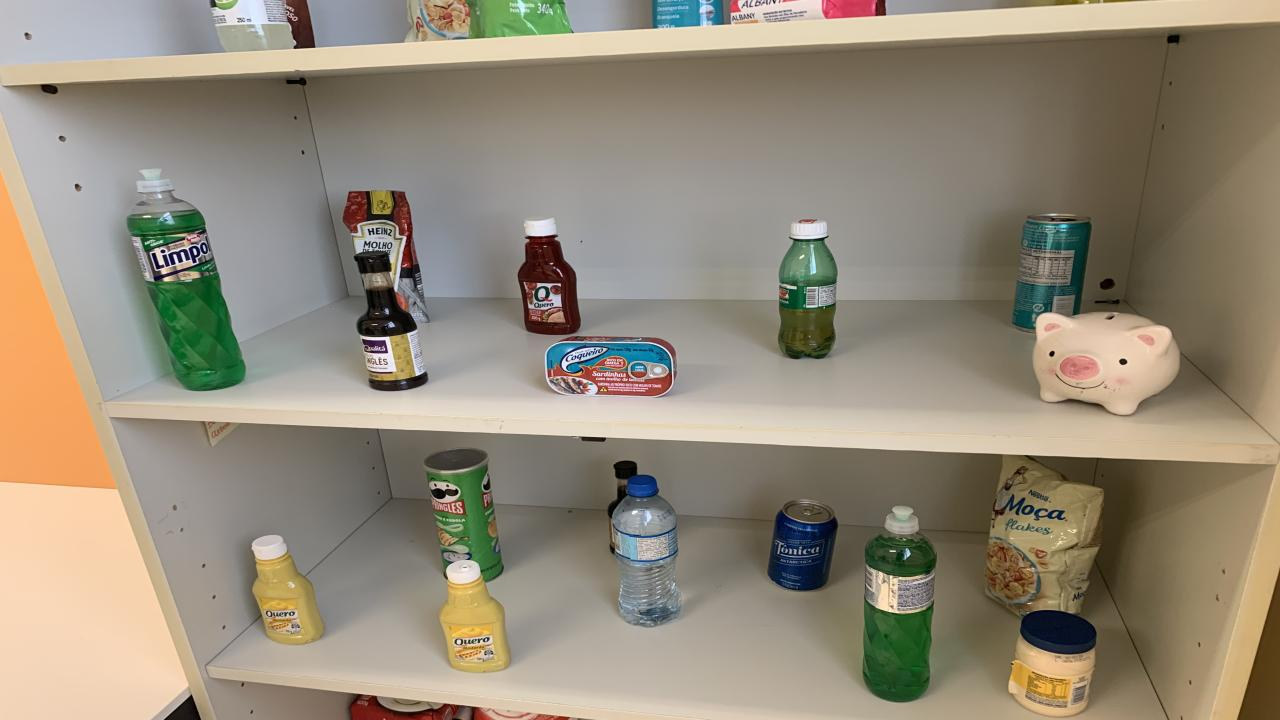Cleaner-Cleanup_Items: (652, 0, 722, 28)
Coffee-Pantry_Items: (285, 0, 315, 49)
Detergent-Cleanup_Items: (128, 169, 245, 390), (862, 506, 938, 701)
English_Sauce-Pantry_Items: (355, 251, 428, 390), (608, 459, 638, 518), (610, 531, 615, 551)
Flakes-Snacks: (985, 456, 1105, 615), (405, 0, 470, 41)
Guarana-Drinks: (778, 219, 838, 358)
Ketchup-Pantry_Items: (518, 218, 580, 334)
Mayonnaise-Pantry_Items: (1008, 609, 1098, 716)
Mustard-Pantry_Items: (252, 534, 325, 645), (440, 561, 510, 673)
Pig_Safe-Miscellaneous: (1032, 313, 1180, 414)
Pringles-Snacks: (422, 448, 502, 581)
Soap-Cleanup_Items: (730, 0, 885, 24)
Soda-Drinks: (210, 0, 295, 52)
Tea-Drinks: (1012, 214, 1092, 330)
Tomato_Sauce-Pantry_Items: (342, 189, 430, 322), (465, 0, 572, 39)
Tonic-Drinks: (768, 499, 838, 591)
Tuna_Can-Pantry_Items: (545, 336, 678, 398)
Water_Bottle-Drinks: (612, 474, 680, 626)
